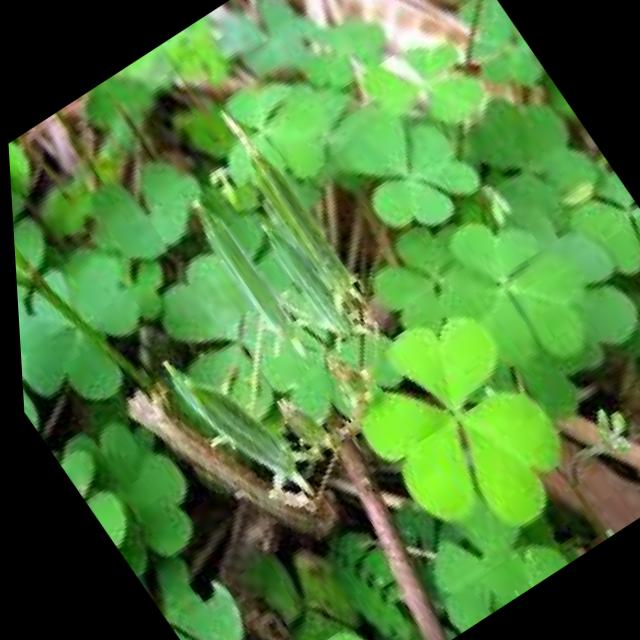Flower: (5, 104, 494, 581)
